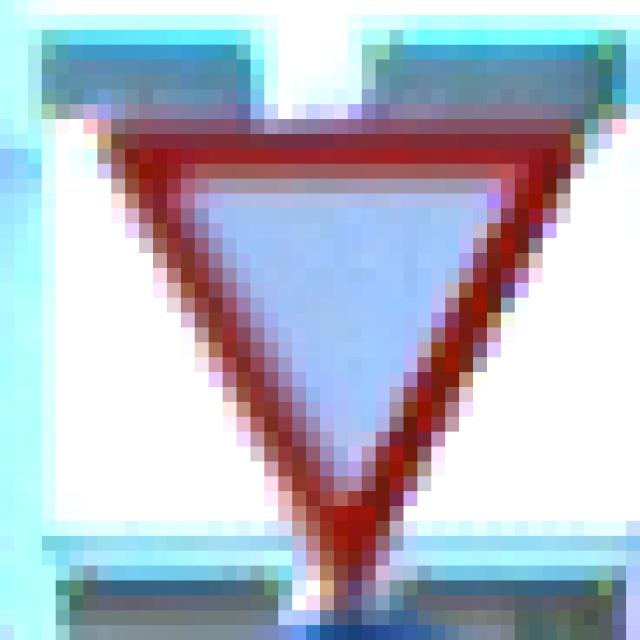Give Way: (85, 75, 572, 552)
